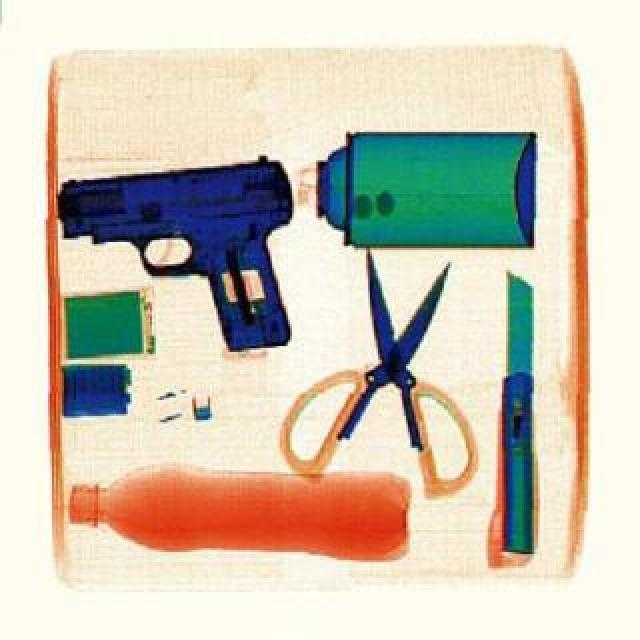gun: (54, 154, 294, 350)
knife: (274, 244, 482, 496)
